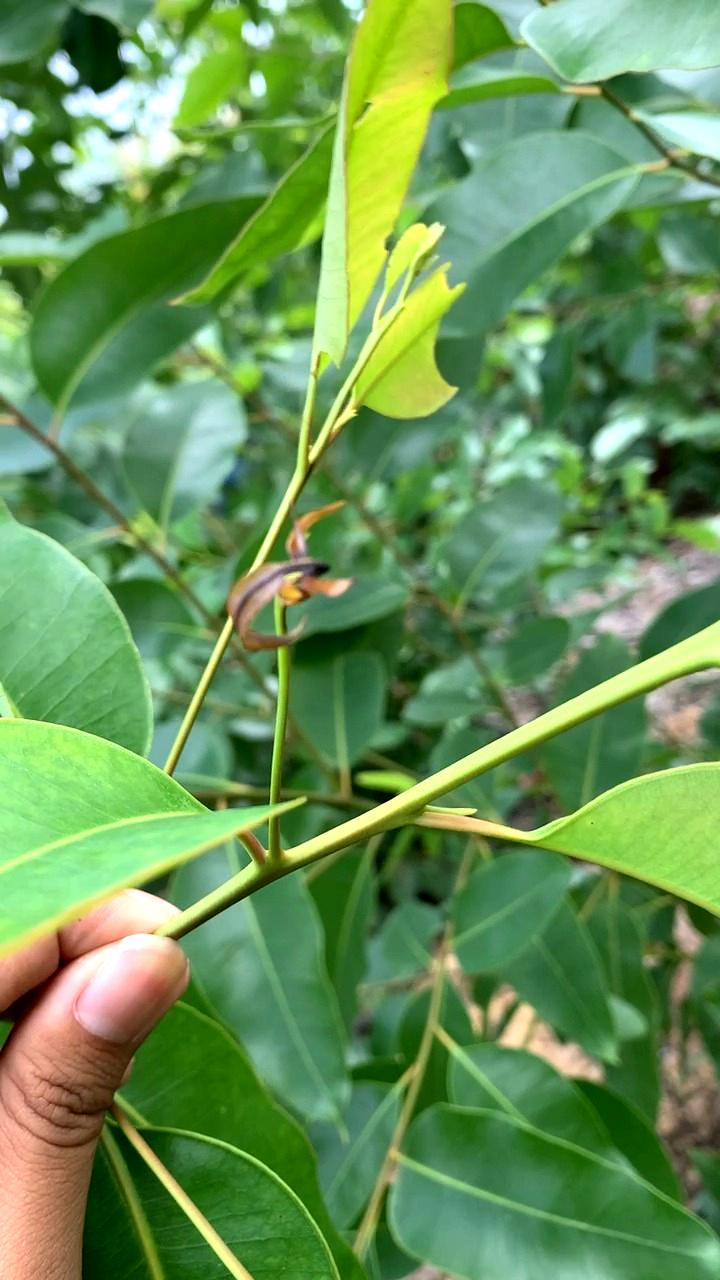Helopeltis-Withered Sprout: (225, 483, 379, 653)
